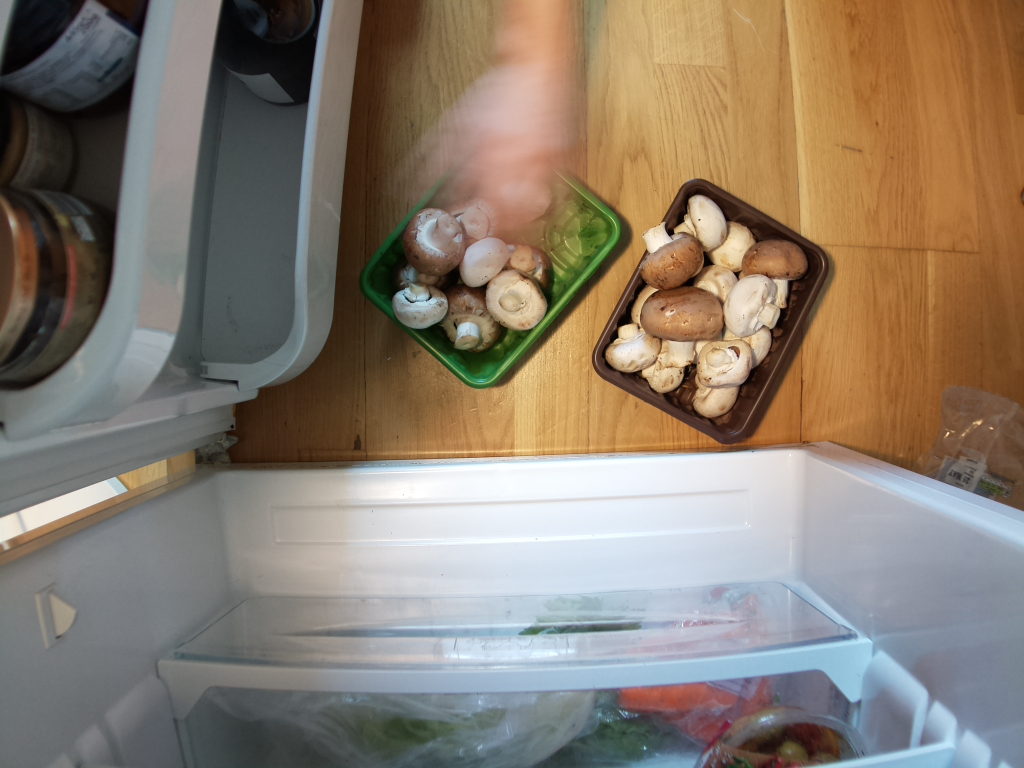mushrooms: (585, 174, 841, 453), (357, 204, 580, 388)
